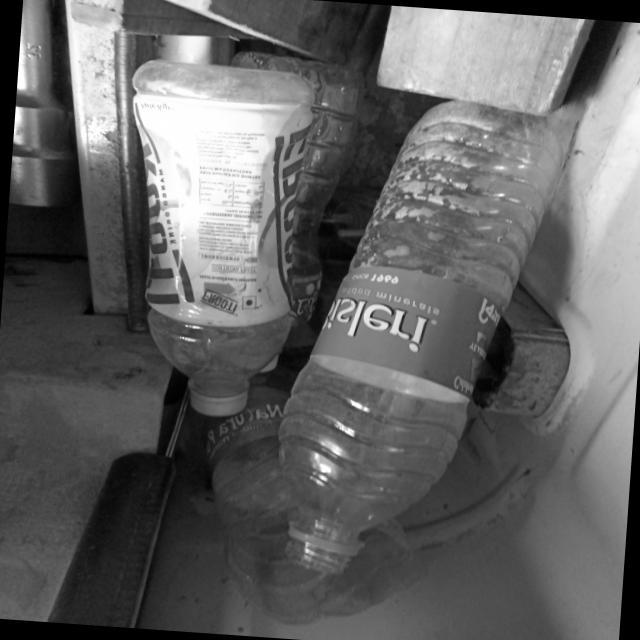good: (262, 94, 580, 594), (101, 49, 321, 430), (176, 350, 398, 634)
